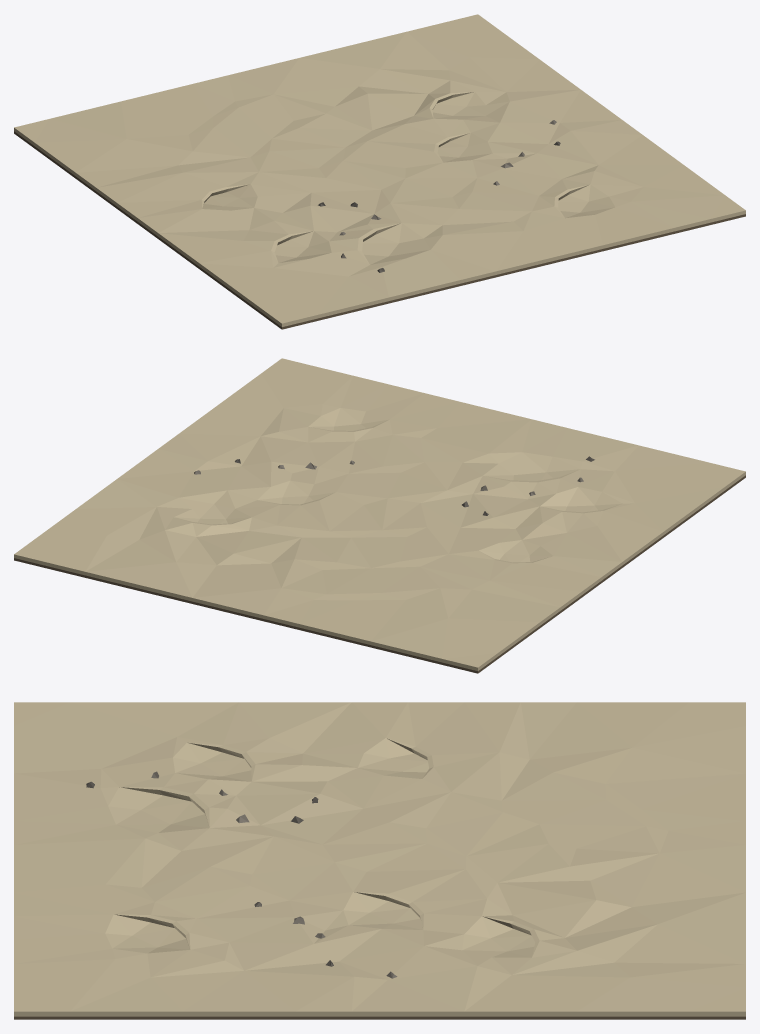
Rendered from dry-soft-sand-tile-4a1df7.glb.
3 renders of one model, top to bottom at view 1: azimuth 30°, elevation 25°; view 2: azimuth 150°, elevation 25°; view 3: azimuth 270°, elevation 25°, orthographic. The views are drawn at different scales.
Parts seen in each view (by area): view 1: sand-top, wind-cusp; view 2: sand-top, wind-cusp; view 3: sand-top, wind-cusp.
Part boxes in pixels (x1,y1,x2,y2): sand-top: [14, 14, 745, 329]; wind-cusp: [554, 184, 614, 218]; sand-top: [14, 358, 745, 673]; wind-cusp: [308, 408, 389, 431]; sand-top: [14, 702, 745, 1019]; wind-cusp: [105, 914, 190, 953].
Size of the model in its own units: 4 by 0.0887 by 4.
